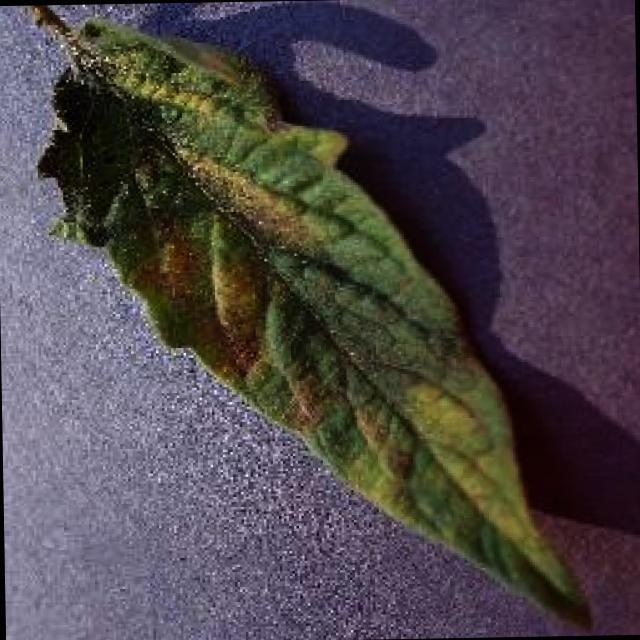Tomato mold leaf: (32, 10, 599, 640)
